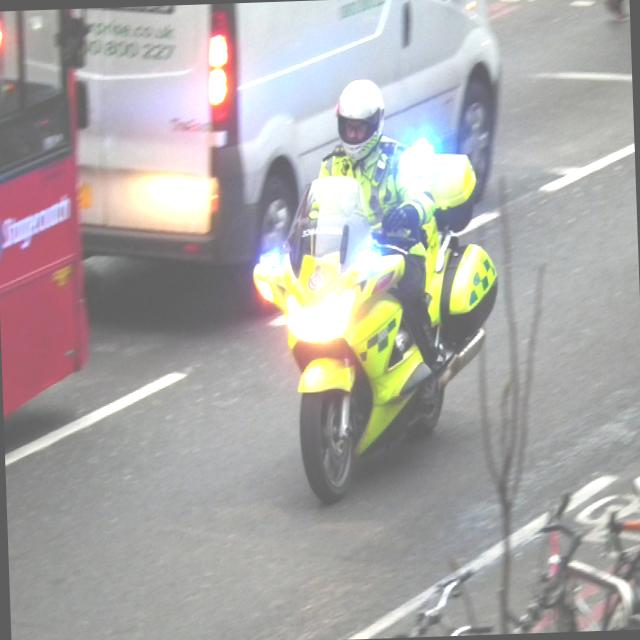Vehicle: (73, 0, 512, 322), (73, 0, 507, 317), (248, 146, 508, 509), (0, 8, 104, 448)
